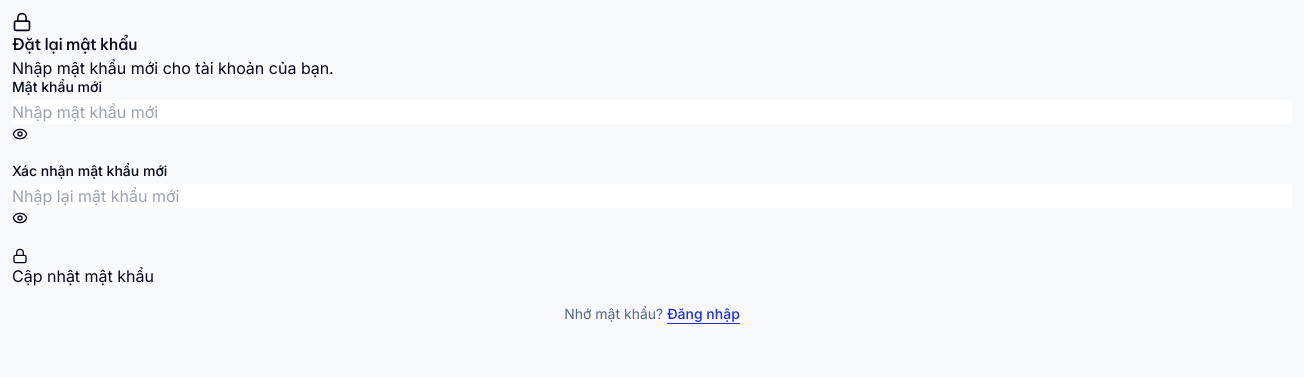
Test: ResetPasswordPage › shows error for invalid reset token
Type "password123" into the password field labelled "Mật khẩu mới".
click(652, 112); type("password123")  # box [12, 100, 1292, 124]
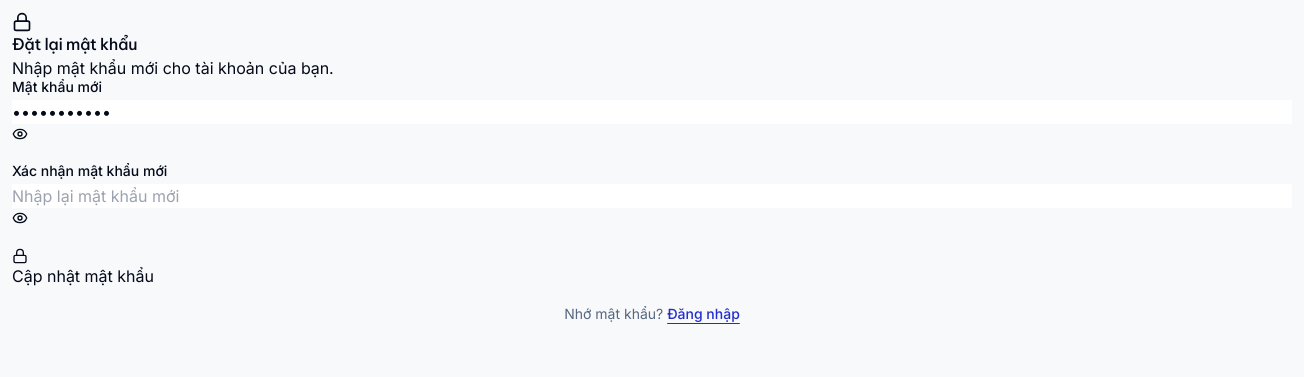
Type "password123" into the password field labelled "Xác nhận mật khẩu mới".
click(652, 196); type("password123")  # box [12, 184, 1292, 208]
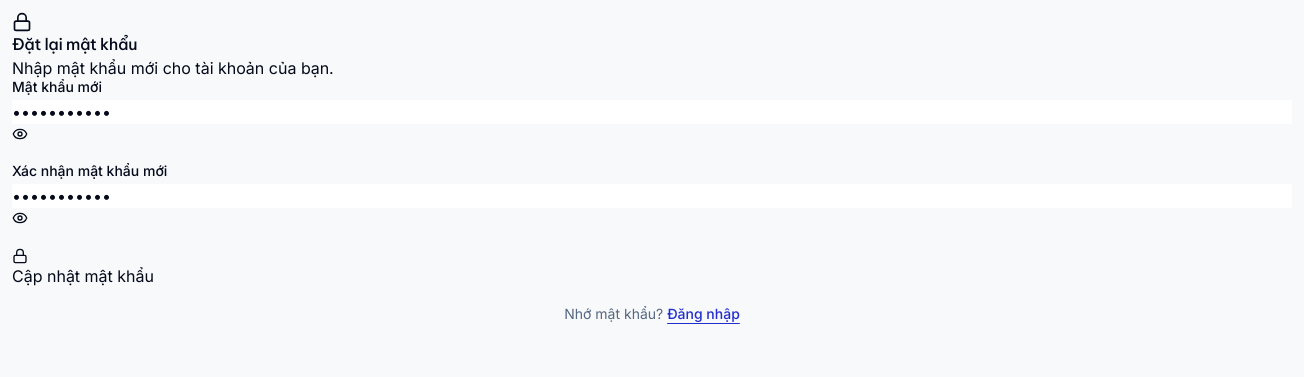
Click the button "Cập nhật mật khẩu".
click(83, 268)  # box [12, 248, 154, 288]
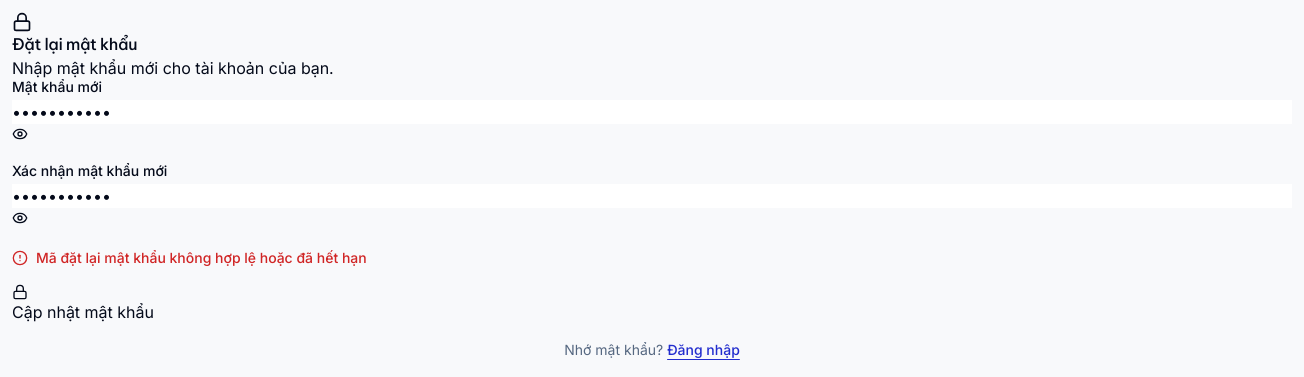
Result: the text "Mã đặt lại mật khẩu không hợp lệ hoặc đã hết hạn" is shown at [12, 249, 367, 266]
